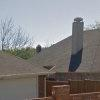Chimney: (66, 11, 92, 73)
